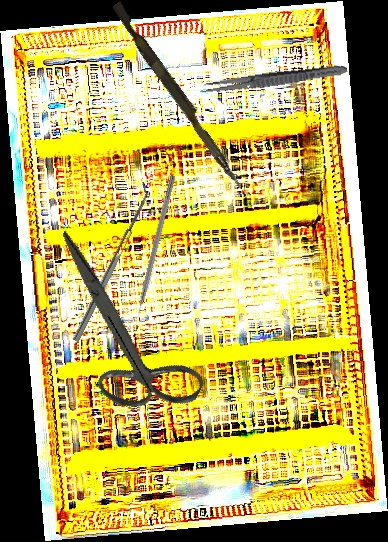Dressing Forceps: (198, 61, 349, 98)
Hook Surgical: (130, 174, 177, 330)
Iris Scissors: (5, 228, 239, 436)
Pusher: (106, 1, 250, 189)
Spatula Surgical: (66, 181, 155, 343)
